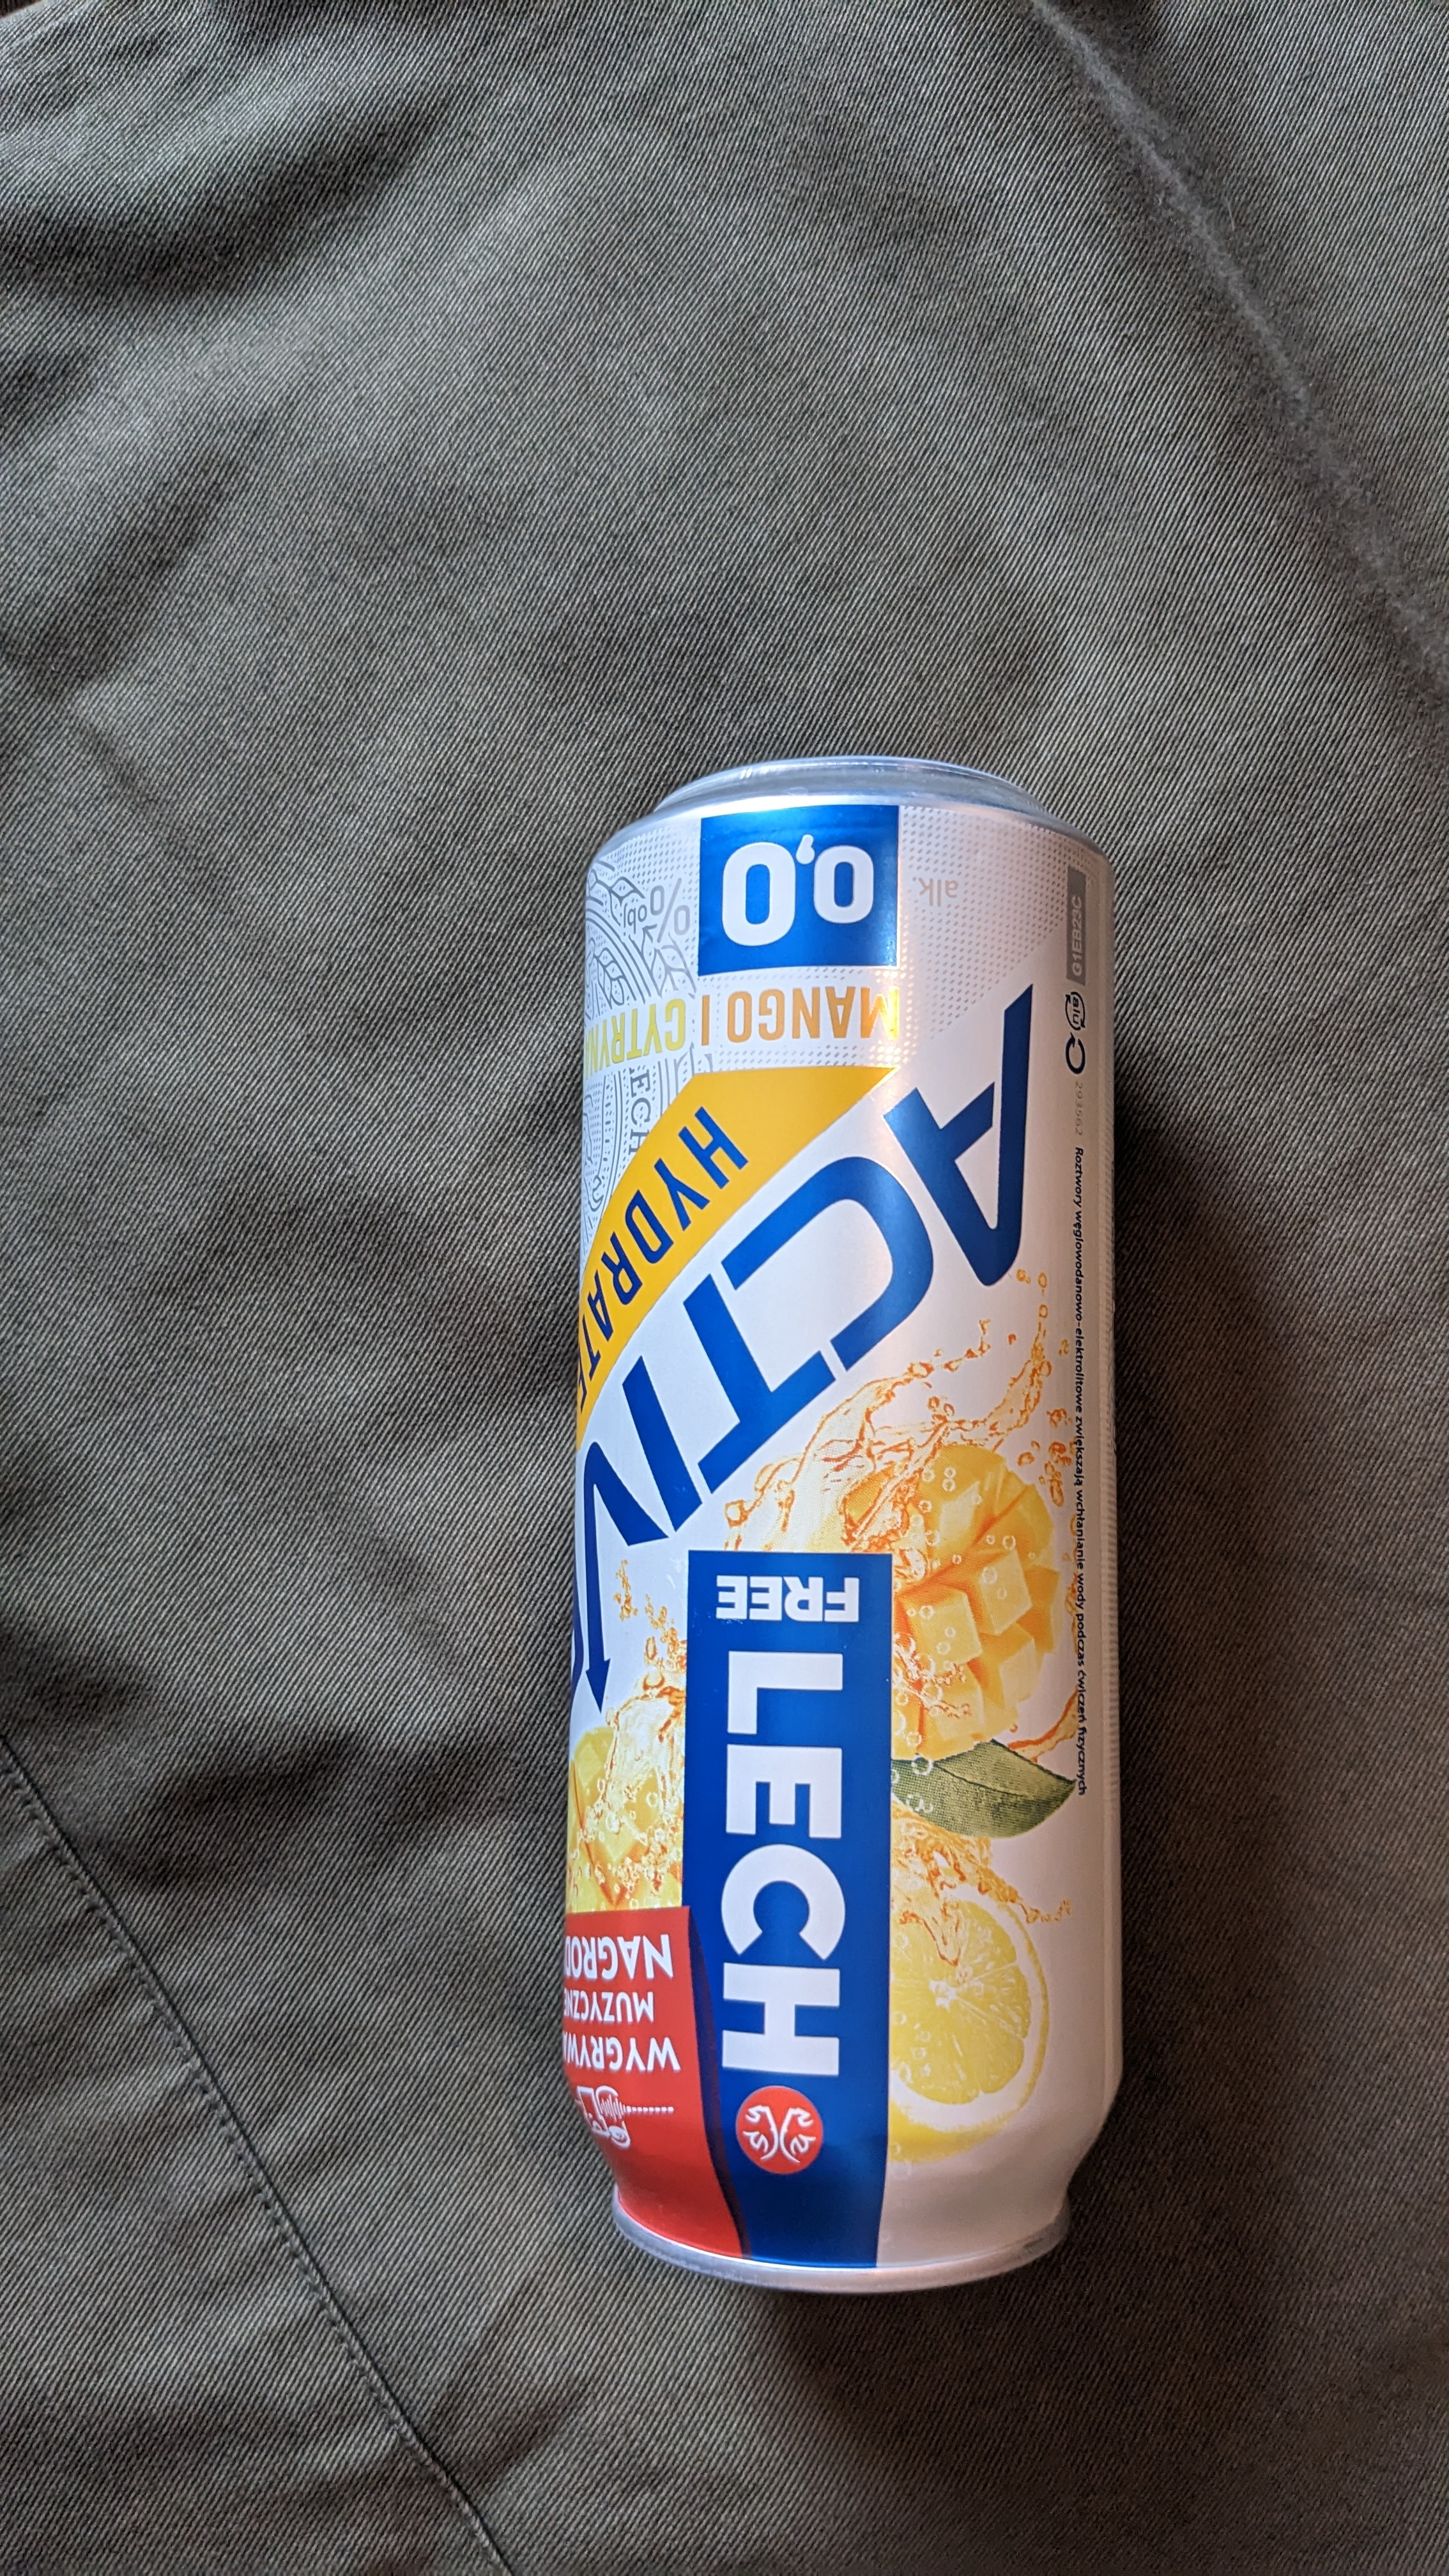lech-active: (524, 727, 1155, 2316)
